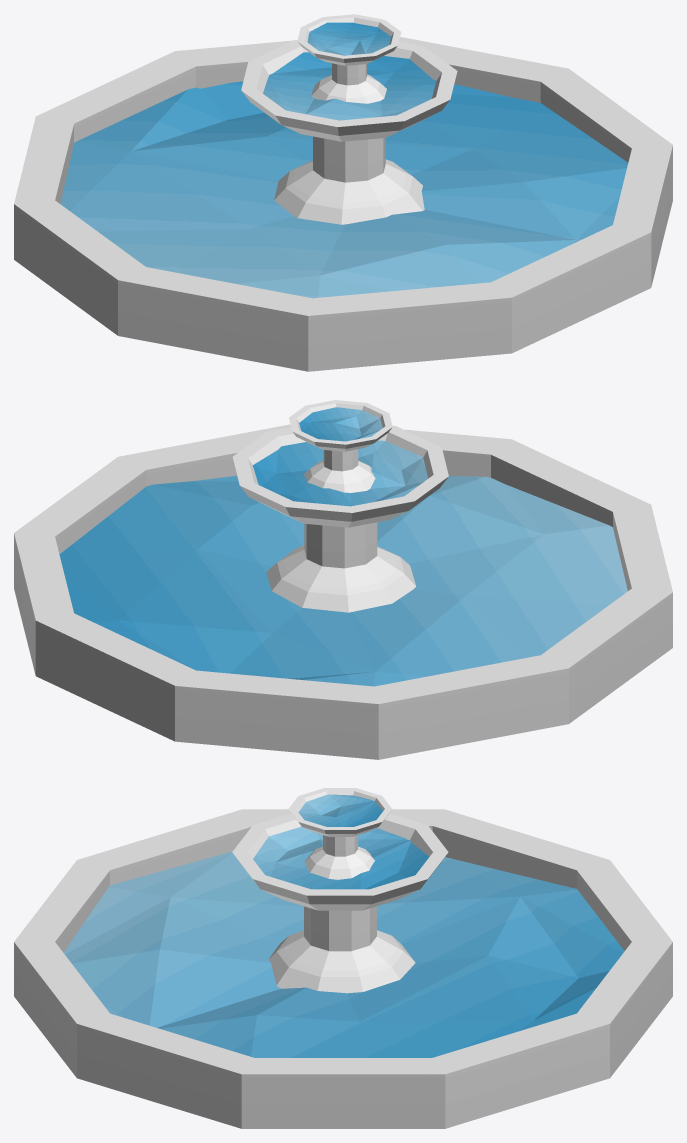
The model's file is fountain.glb.
3 renders of one model, top to bottom at view 1: azimuth 30°, elevation 25°; view 2: azimuth 150°, elevation 25°; view 3: azimuth 270°, elevation 25°, orthographic. The views are drawn at different scales.
Visible parts, largest first — view 1: fountain; view 2: fountain; view 3: fountain.
Part boxes in pixels (box(x1,y1,x2,y2)): fountain: box(14, 14, 672, 371); fountain: box(14, 400, 672, 759); fountain: box(14, 788, 672, 1128).
Bounding box in the file's own units: 7.19 × 2.4 × 7.56.
Materials: 1 (1 with a texture image).
